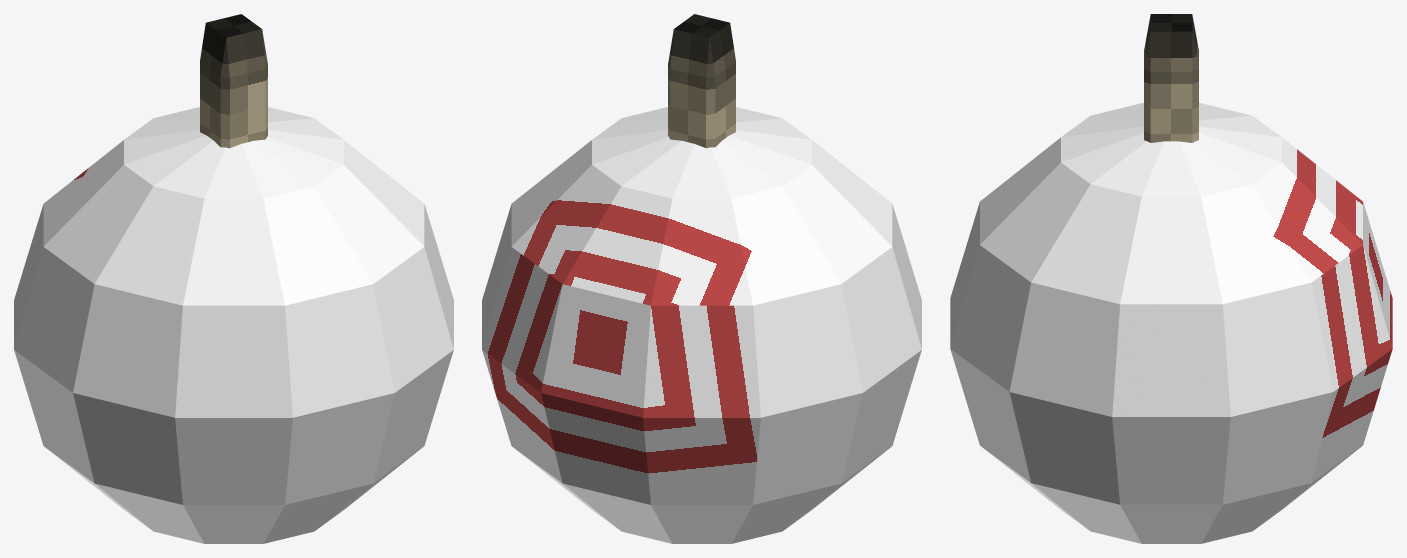
The model's file is grow.gltf.
3 views of the same model, side by side, from view 1: azimuth 30°, elevation 25°; view 2: azimuth 150°, elevation 25°; view 3: azimuth 270°, elevation 25° (orthographic).
Parts seen in each view (by area): view 1: sphere, beveled_cuboid; view 2: sphere, beveled_cuboid; view 3: sphere, beveled_cuboid.
Part boxes in pixels (x1,y1,x2,y2): sphere: (14, 107, 453, 543); beveled_cuboid: (200, 14, 267, 148); sphere: (482, 107, 921, 543); beveled_cuboid: (668, 14, 735, 148); sphere: (950, 103, 1392, 543); beveled_cuboid: (1144, 14, 1198, 142).
Size of the model in its own units: 1 by 1.25 by 1.
Materials: 1 (1 with a texture image).
